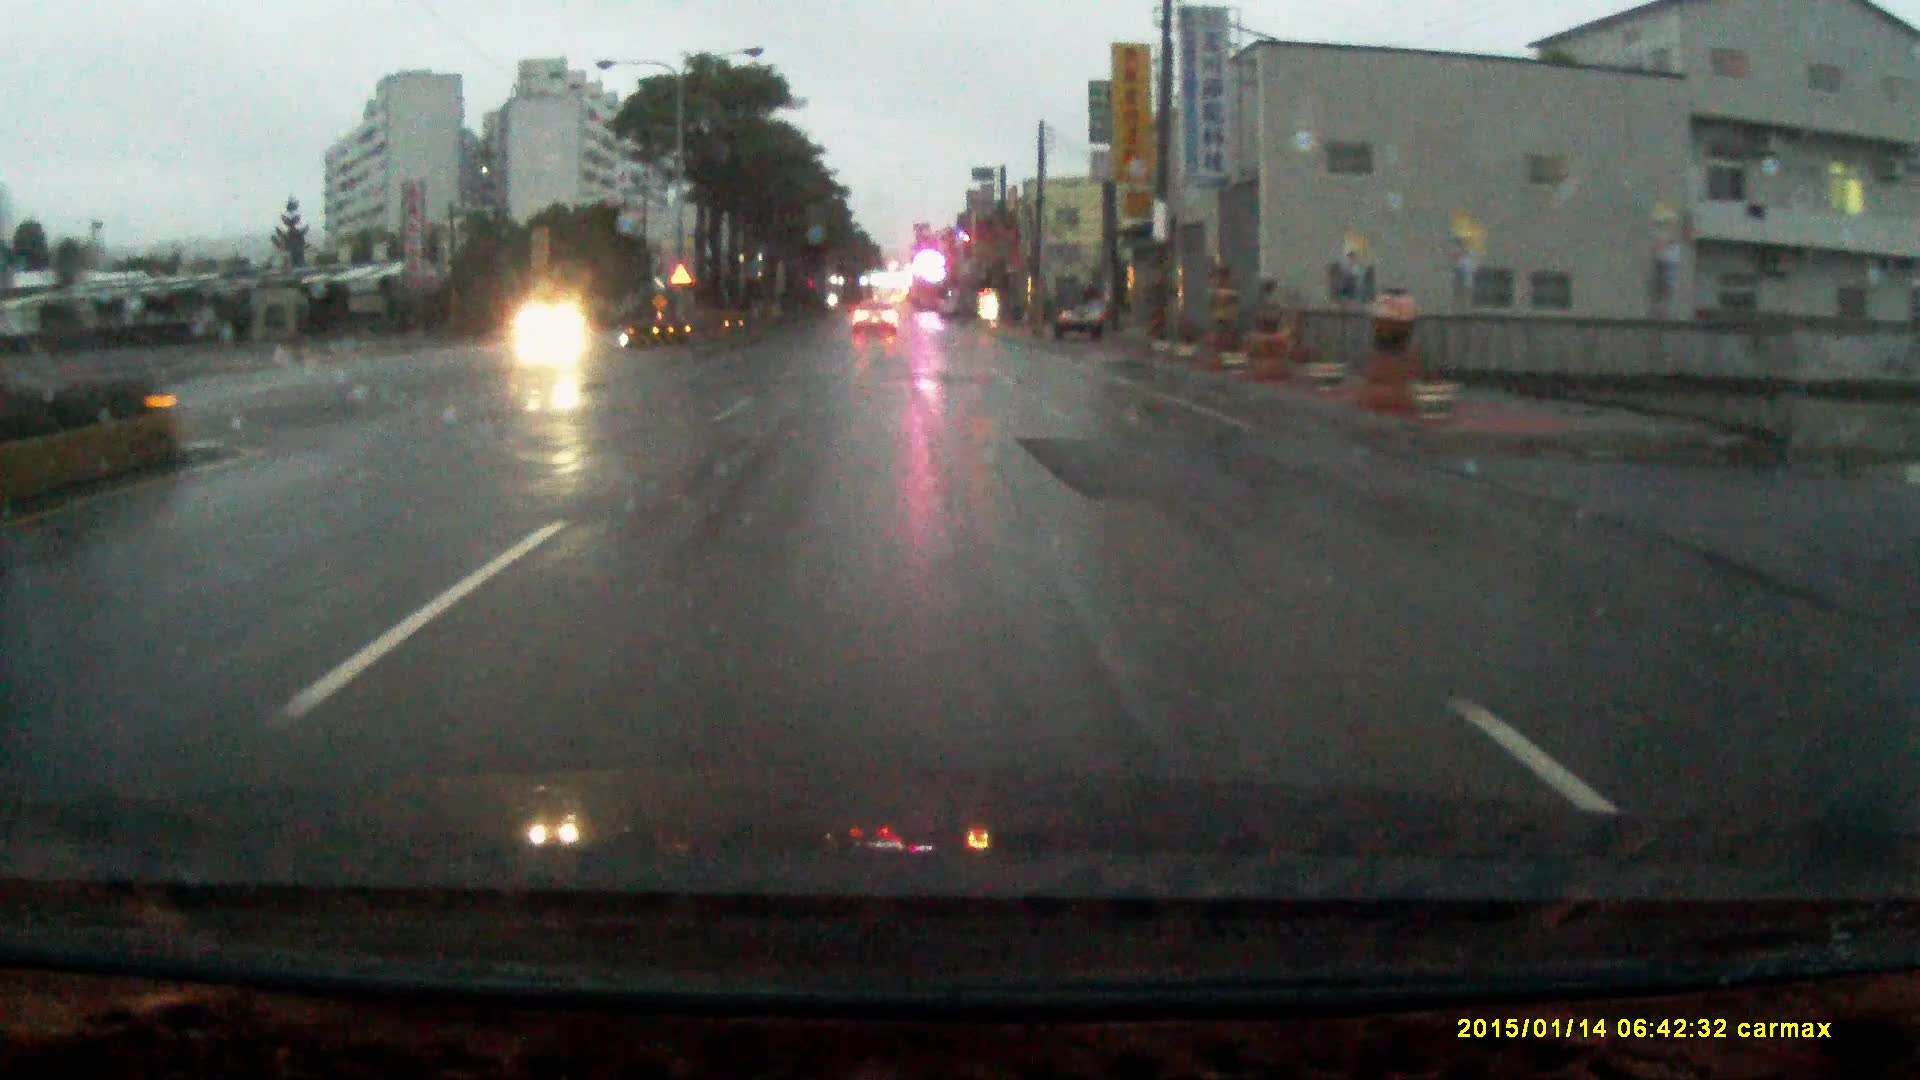vehicle: (1058, 287, 1112, 343), (852, 303, 901, 339)
